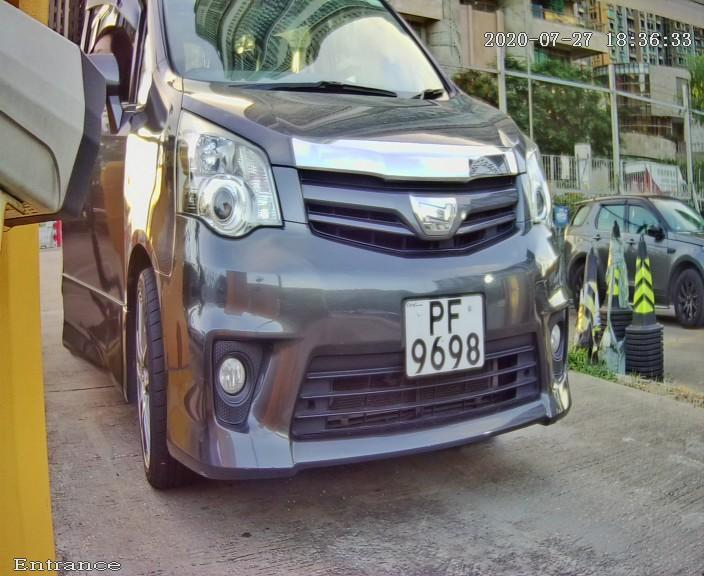privatecar: (54, 21, 629, 497)
